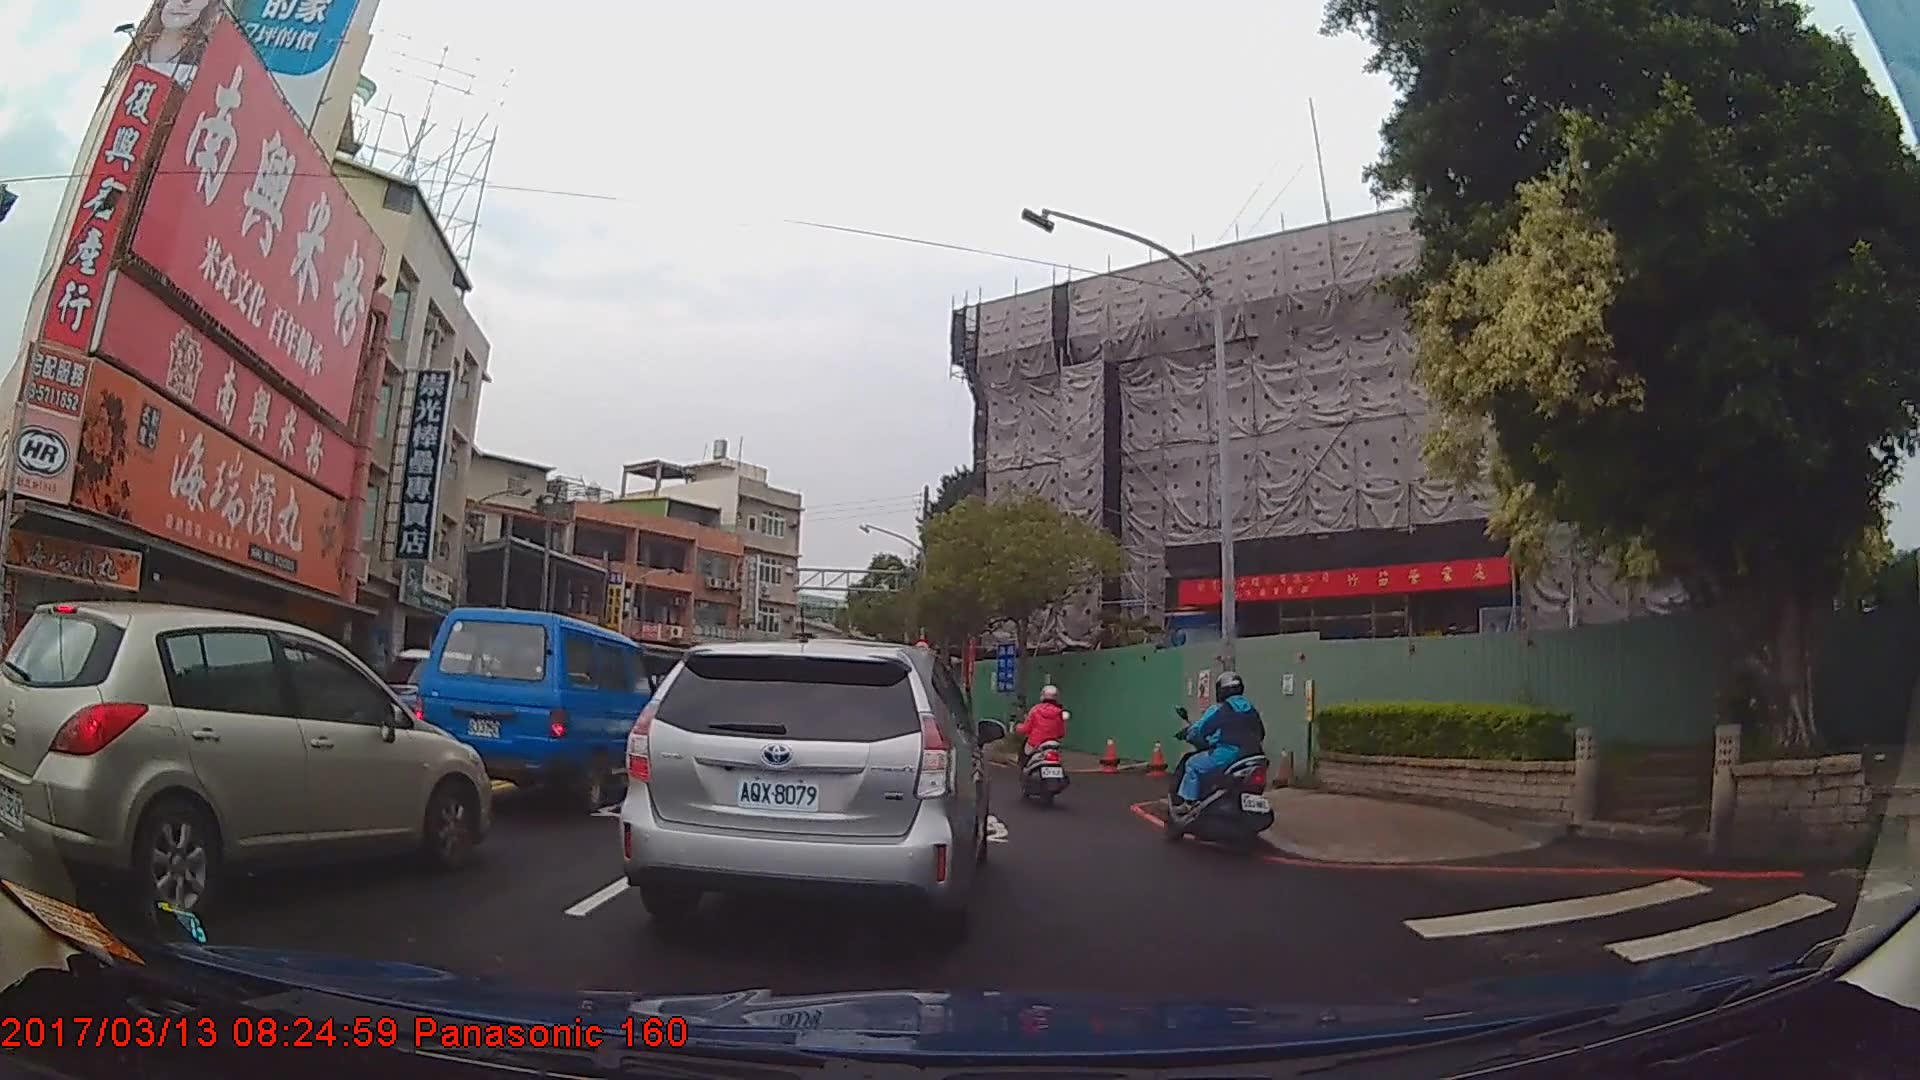rider: (1169, 672, 1280, 852), (1006, 685, 1070, 799)
vehicle: (0, 594, 489, 923), (617, 632, 989, 946), (418, 604, 672, 811)
